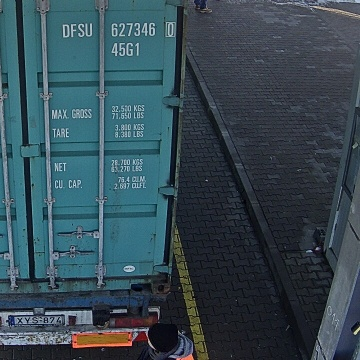serial_id: (63, 22, 174, 38)
